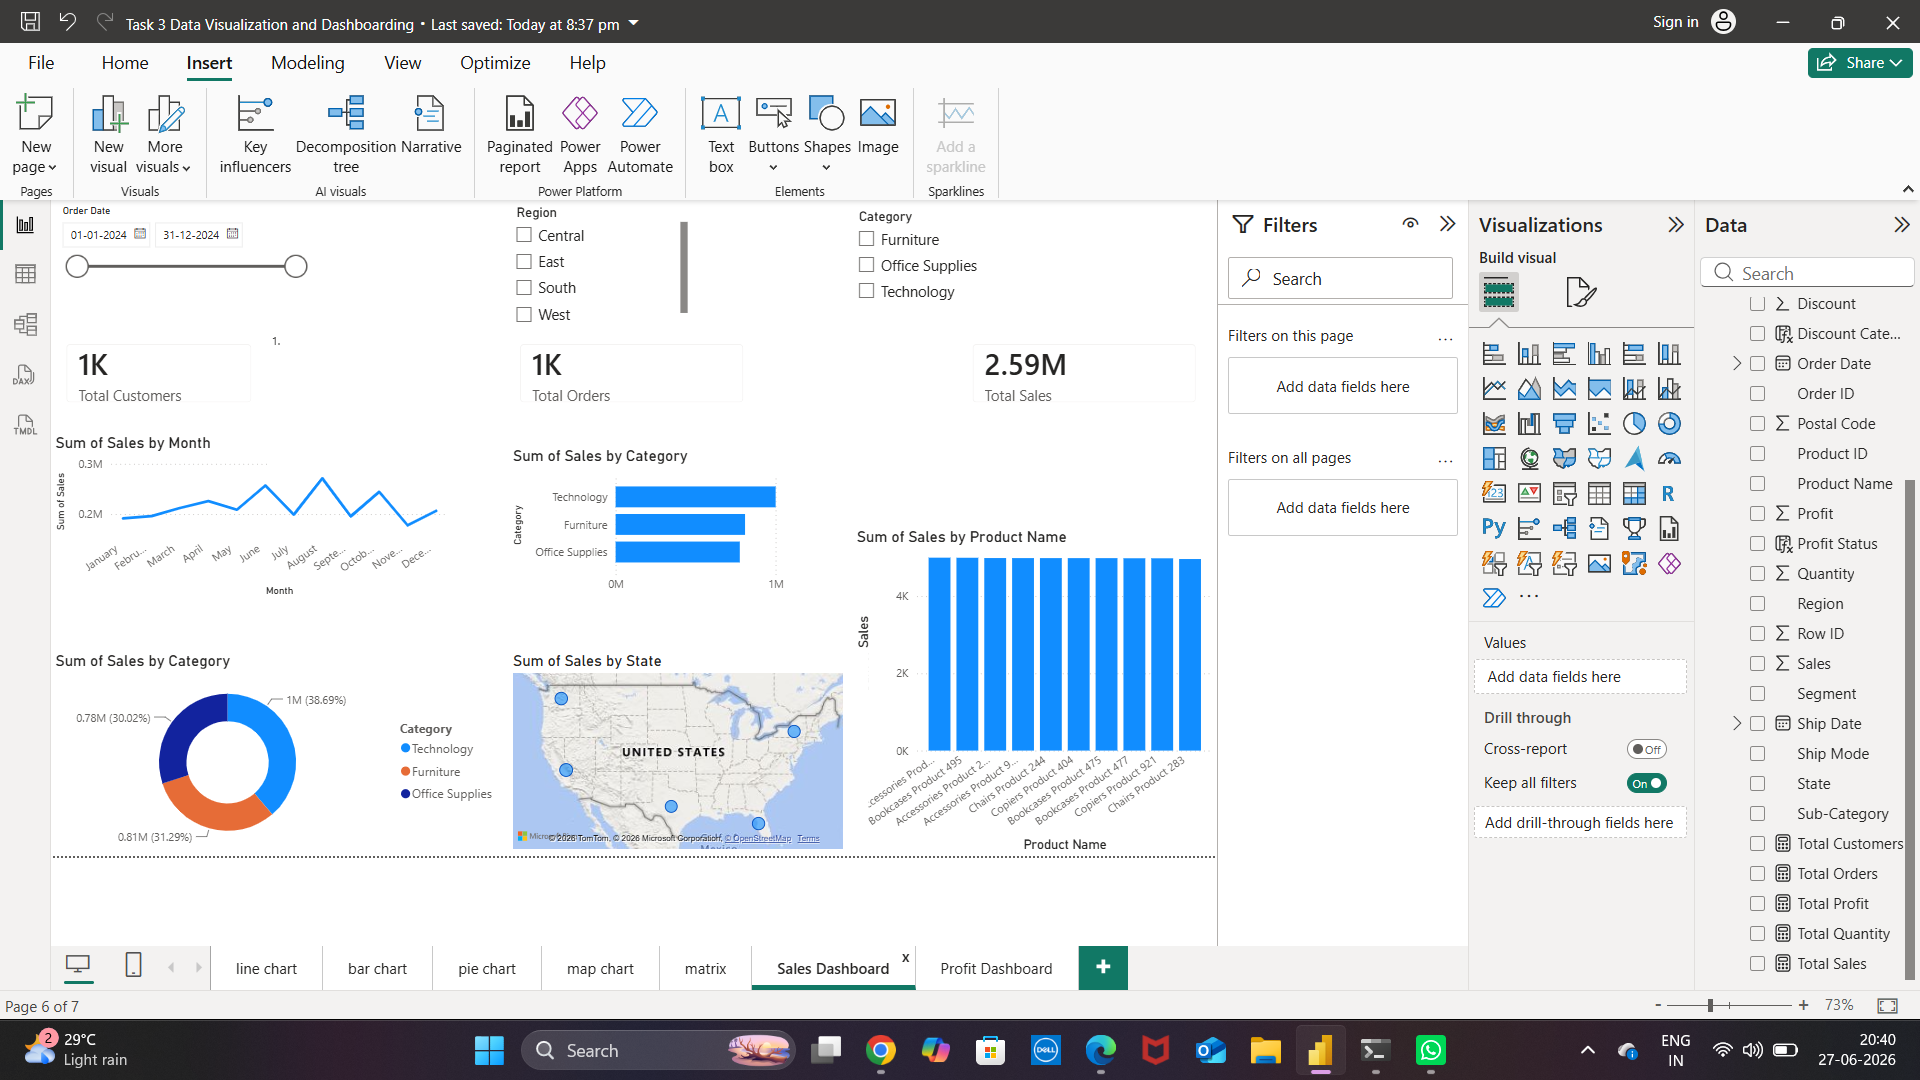

The page's visual inventory and layout, read from the dashboard file:
{"tool":"powerbi","page":{"name":"Sales Dashboard","canvas":[1280,720],"ordinal":5},"visuals":[{"type":"cardVisual","fields":{"Data":["cleaned_superstore xls.Total Sales"]},"box":[994.9,141.3,279.9,98.8],"z":0},{"type":"cardVisual","fields":{"Data":["cleaned_superstore xls.Total Customers"]},"box":[0,141.3,237.4,98.8],"z":1},{"type":"cardVisual","fields":{"Data":["cleaned_superstore xls.Total Orders"]},"box":[498.1,141.3,279.9,98.8],"z":2},{"type":"lineChart","fields":{"Category":["cleaned_superstore xls.Order Date.Variation.Date Hierarchy.Month"],"Y":["Sum(cleaned_superstore xls.Sales)"]},"box":[0,256.6,440.5,183.9],"z":4},{"type":"donutChart","fields":{"Category":["cleaned_superstore xls.Category"],"Y":["Sum(cleaned_superstore xls.Sales)"]},"box":[0,495.4,498.1,225],"z":5},{"type":"clusteredBarChart","fields":{"Category":["cleaned_superstore xls.Category"],"Y":["Sum(cleaned_superstore xls.Sales)"]},"box":[502.2,270.3,395.2,170.2],"z":6},{"type":"map","fields":{"Category":["cleaned_superstore xls.State"],"Size":["Sum(cleaned_superstore xls.Sales)"]},"box":[498.1,495.4,399.3,225],"z":7},{"type":"clusteredColumnChart","fields":{"Category":["cleaned_superstore xls.Product Name"],"Y":["Sum(cleaned_superstore xls.Sales)"]},"box":[879.6,359.5,400.7,360.9],"z":8},{"type":"slicer","fields":{"Values":["cleaned_superstore xls.Order Date"]},"box":[0,0,289.5,89.2],"z":9},{"type":"slicer","fields":{"Values":["cleaned_superstore xls.Region"]},"box":[498.1,0,205.8,141.3],"z":10},{"type":"slicer","fields":{"Values":["cleaned_superstore xls.Category"]},"box":[874.1,4.1,168.8,126.2],"z":11},{"type":"textbox","box":[502,495,395,225],"z":13},{"type":"textbox","box":[237,141,203,150],"z":14},{"type":"map","fields":{"Category":["cleaned_superstore xls.State"],"Size":["Sum(cleaned_superstore xls.Sales)"]},"box":[502.2,495.4,371.9,222.3],"z":15}]}

Visuals, with their boxes on the page's 1280x720 design canvas (x1, y1, x2, y2). These are canvas units, not pixel positions in the 1920x1080 screenshot, which may show the page scaled, cropped or inside an application window:
cardVisual - cleaned_superstore xls.Total Sales: Rect(995, 141, 1275, 240)
cardVisual - cleaned_superstore xls.Total Customers: Rect(0, 141, 237, 240)
cardVisual - cleaned_superstore xls.Total Orders: Rect(498, 141, 778, 240)
lineChart - cleaned_superstore xls.Order Date.Variation.Date Hierarchy.Month x Sum(cleaned_superstore xls.Sales): Rect(0, 257, 440, 440)
donutChart - cleaned_superstore xls.Category x Sum(cleaned_superstore xls.Sales): Rect(0, 495, 498, 720)
clusteredBarChart - cleaned_superstore xls.Category x Sum(cleaned_superstore xls.Sales): Rect(502, 270, 897, 440)
map - cleaned_superstore xls.State x Sum(cleaned_superstore xls.Sales): Rect(498, 495, 897, 720)
clusteredColumnChart - cleaned_superstore xls.Product Name x Sum(cleaned_superstore xls.Sales): Rect(880, 360, 1280, 720)
slicer - cleaned_superstore xls.Order Date: Rect(0, 0, 290, 89)
slicer - cleaned_superstore xls.Region: Rect(498, 0, 704, 141)
slicer - cleaned_superstore xls.Category: Rect(874, 4, 1043, 130)
textbox: Rect(502, 495, 897, 720)
textbox: Rect(237, 141, 440, 291)
map - cleaned_superstore xls.State x Sum(cleaned_superstore xls.Sales): Rect(502, 495, 874, 718)
